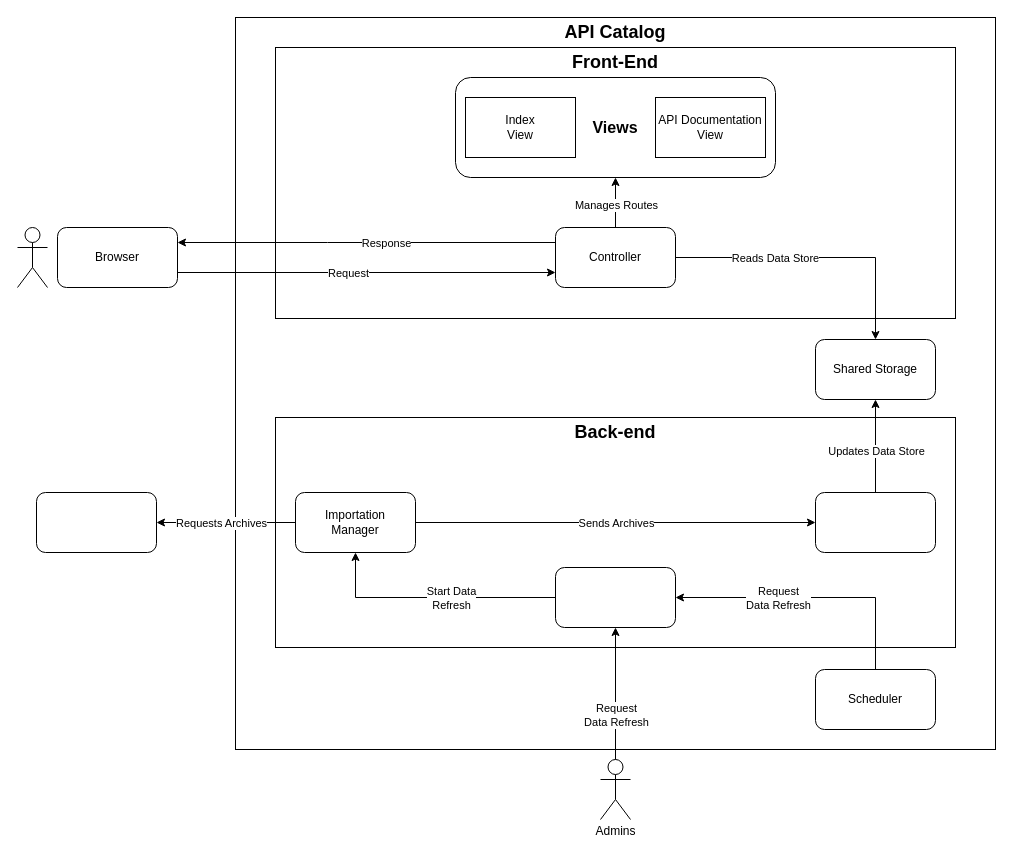
This 1013x856 diagram has some shape labels left out. Each missing label, with the centre of its shape:
"API" goes at pixel 615 597.
"API Manager" goes at pixel 96 522.
"Extractor" goes at pixel 875 522.
"Users" goes at pixel 32 257.
